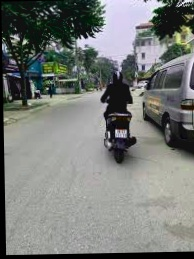Bien-so: (115, 128, 126, 138)
